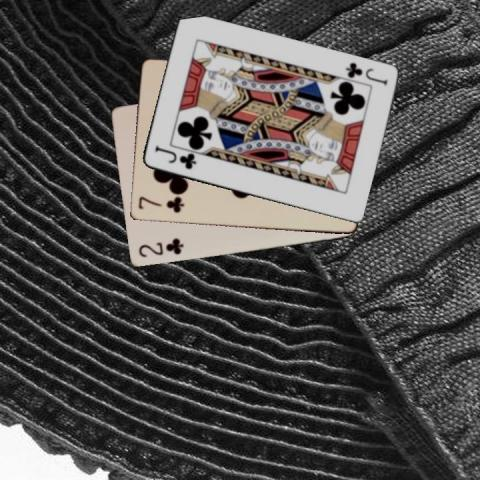2c: (135, 235, 185, 259)
7c: (136, 194, 185, 215)
Jc: (342, 60, 389, 88), (152, 144, 198, 171)
